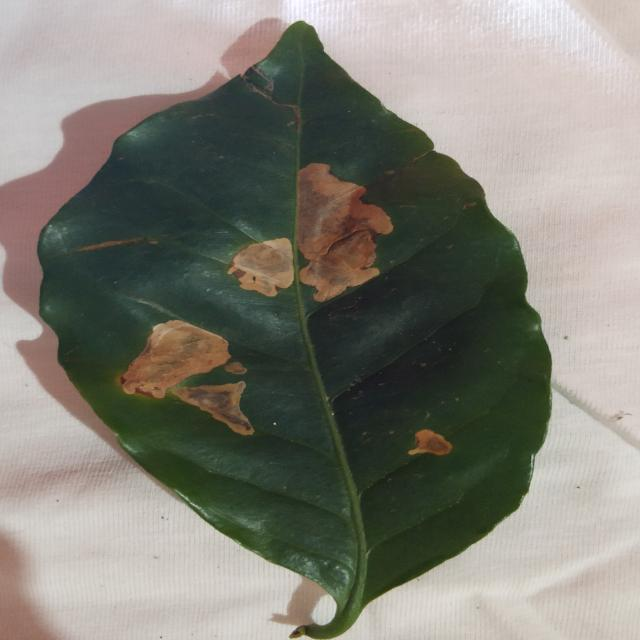Plaga-Minador: (34, 21, 554, 640)
